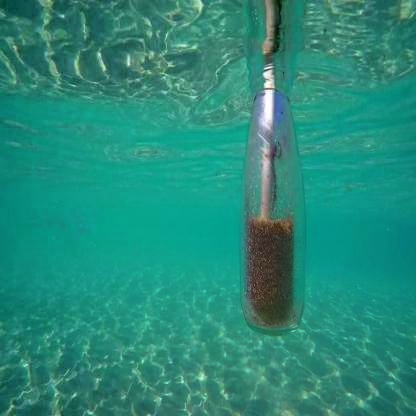gbottle: (241, 82, 308, 337)
